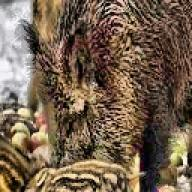boar: (19, 0, 192, 192)
